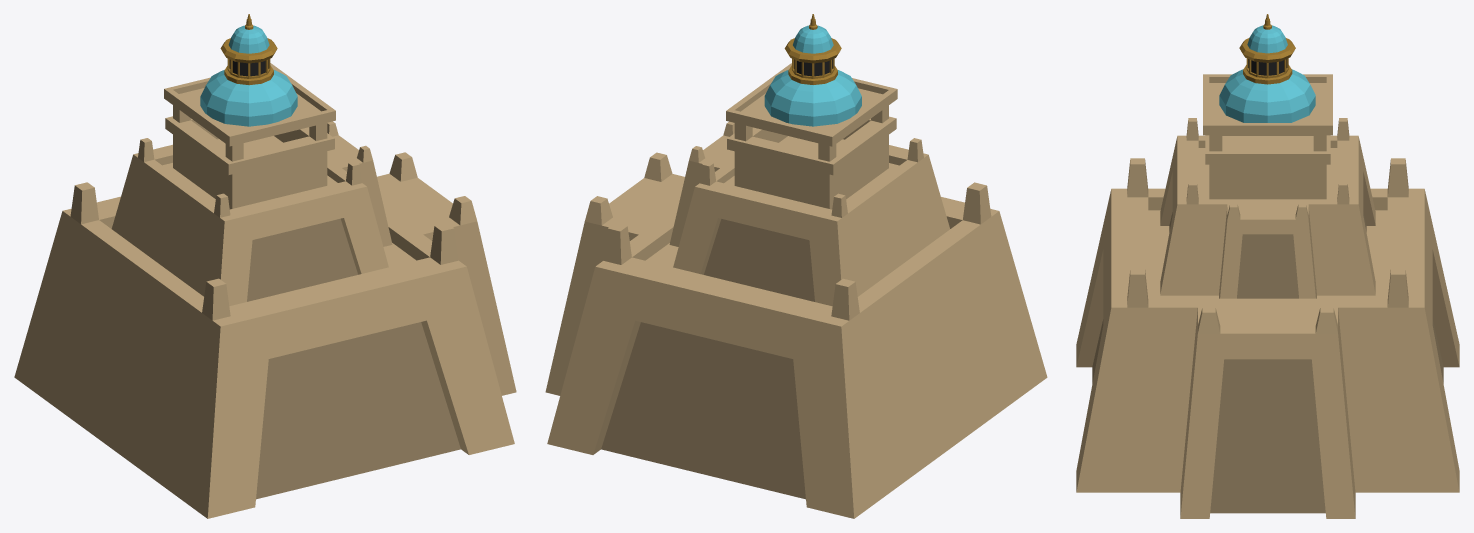
File: egypt_temple.glb
The picture shows the model from 3 angles, left to right: view 1: azimuth 30°, elevation 25°; view 2: azimuth 150°, elevation 25°; view 3: azimuth 270°, elevation 25°; orthographic projection.
Parts seen in each view (by area): view 1: Egyptian Temple; view 2: Egyptian Temple; view 3: Egyptian Temple.
Boxes of the visible parts, box(x1,y1,x2,y2) form: Egyptian Temple: box(14, 14, 516, 518); Egyptian Temple: box(545, 14, 1047, 518); Egyptian Temple: box(1076, 14, 1459, 518).
Size of the model in its own units: 9.32 by 9.86 by 8.64.
